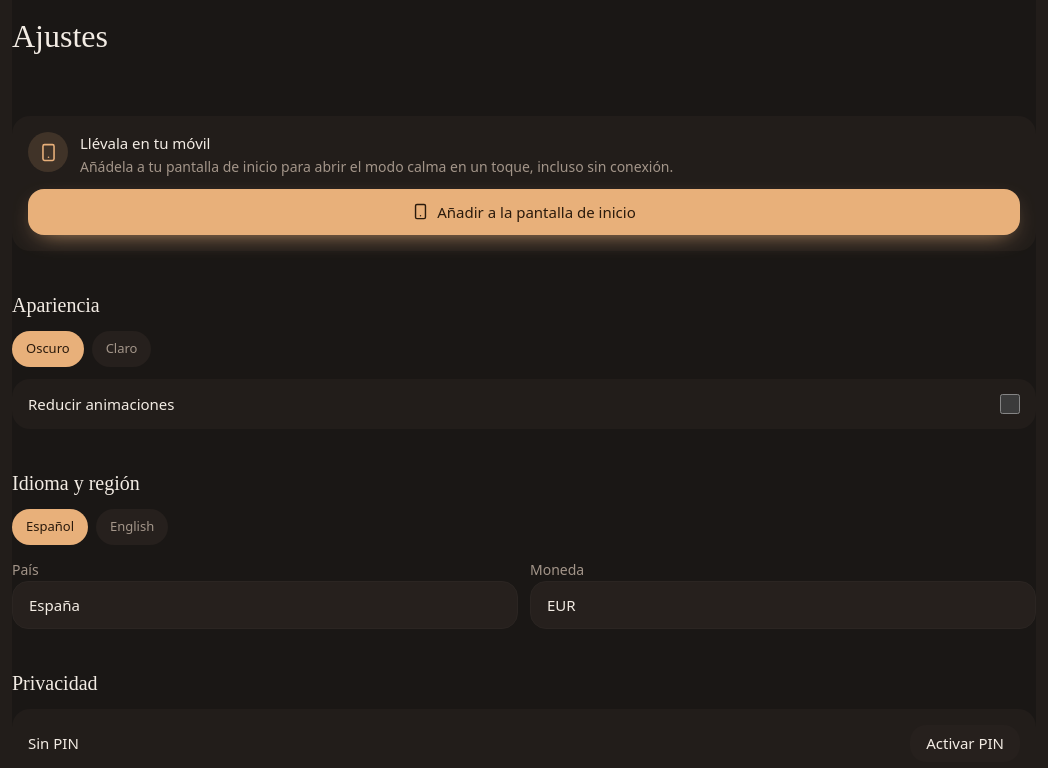
Test: install button in Settings › uses the native install prompt when the browser offers it
Step 1. Click the button "Añadir a la pantalla de inicio" → (524, 212), box [28,188,1020,235]
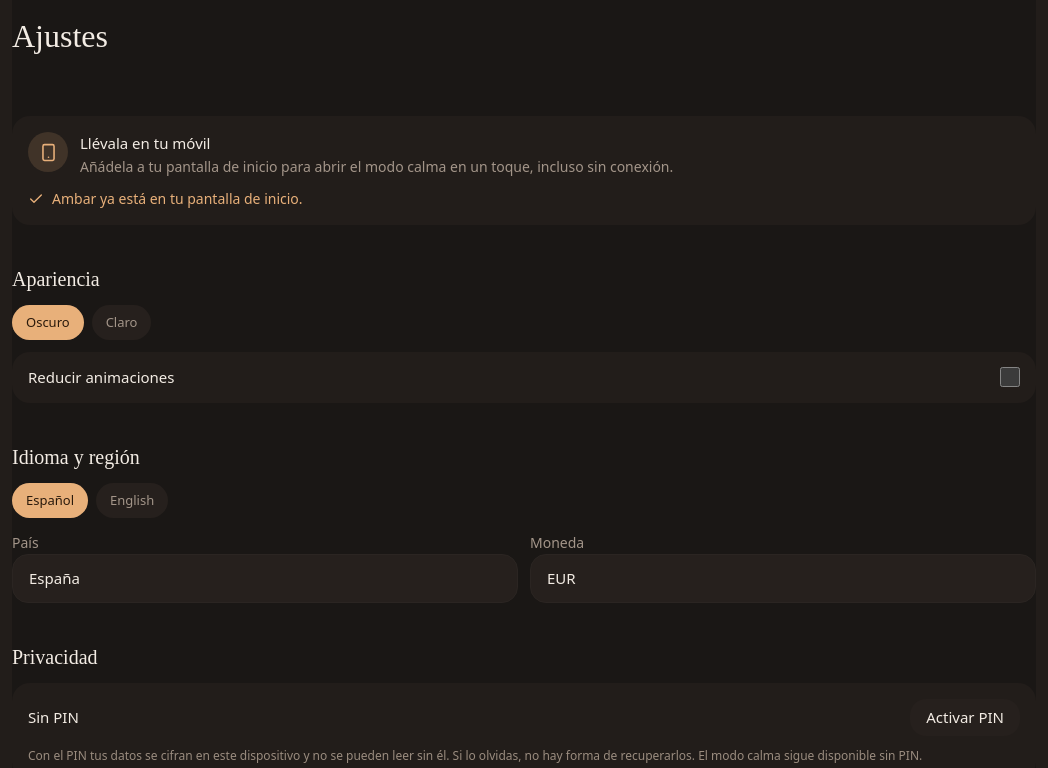
Expected: the text "Ambar ya está en tu pantalla de inicio." is shown, [28,188,303,208]
